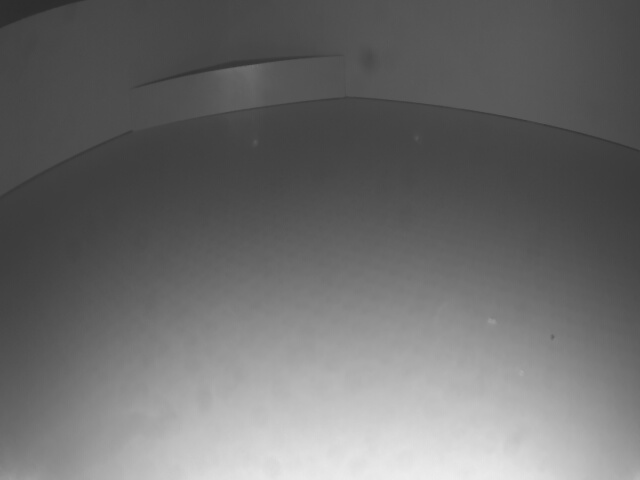Red: (129, 57, 346, 132)
